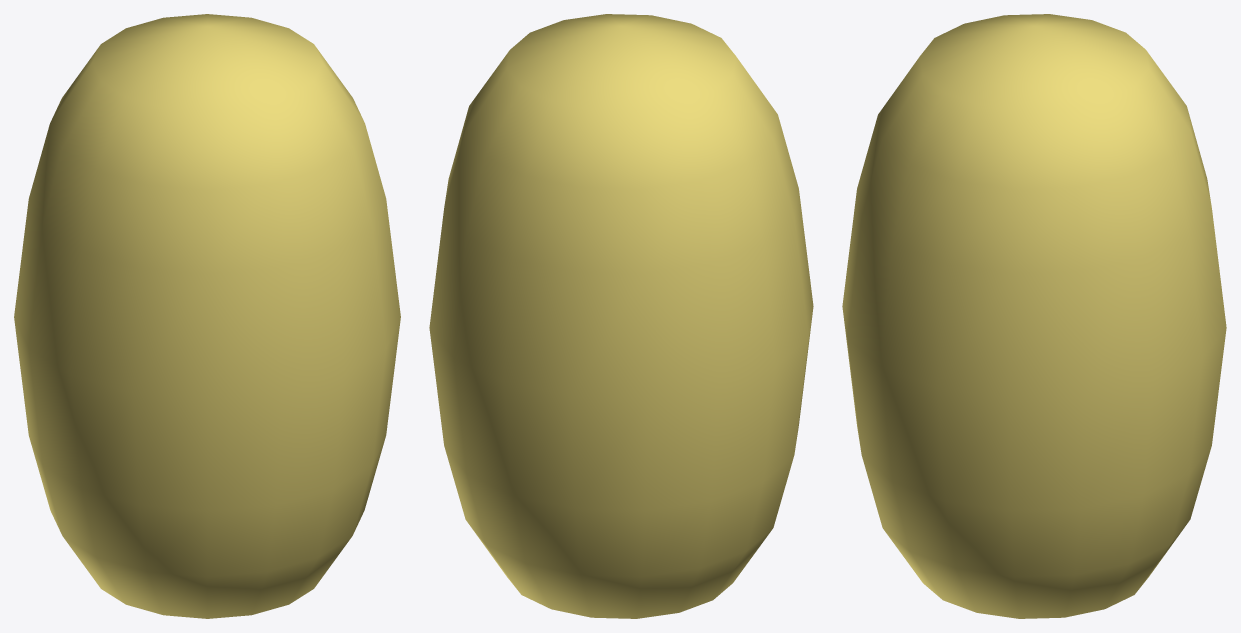
File: motor-root-of-trigeminal-nerve-r.glb
3 renders of one model, left to right at view 1: azimuth 30°, elevation 25°; view 2: azimuth 150°, elevation 25°; view 3: azimuth 270°, elevation 25°, orthographic.
Visible parts, largest first — view 1: Motor root of trigeminal nerve.r; view 2: Motor root of trigeminal nerve.r; view 3: Motor root of trigeminal nerve.r.
Part boxes in pixels (box(x1,y1,x2,y2)): Motor root of trigeminal nerve.r: box(14, 14, 400, 618); Motor root of trigeminal nerve.r: box(429, 14, 813, 618); Motor root of trigeminal nerve.r: box(842, 14, 1226, 618).
Size of the model in its own units: 0.00199 by 0.00332 by 0.00199.
